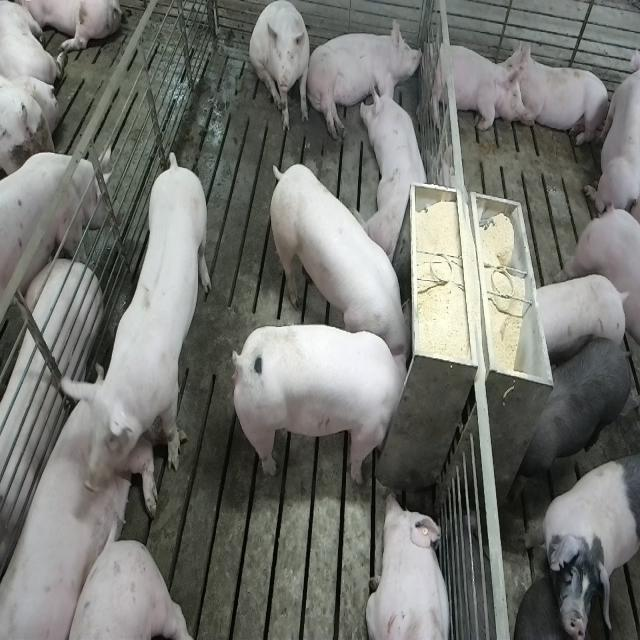Feeding: (264, 160, 412, 361), (227, 321, 409, 484)
Lateral_lying: (0, 257, 102, 600), (306, 15, 424, 142)
Sitting: (250, 1, 311, 134)
Standing: (56, 156, 211, 487), (0, 152, 114, 337), (510, 338, 638, 502), (524, 452, 638, 598), (532, 274, 629, 360)
Sternal_lying: (0, 375, 151, 635), (366, 490, 454, 640), (365, 70, 433, 260), (510, 42, 612, 150), (424, 37, 528, 137), (587, 34, 637, 235)
